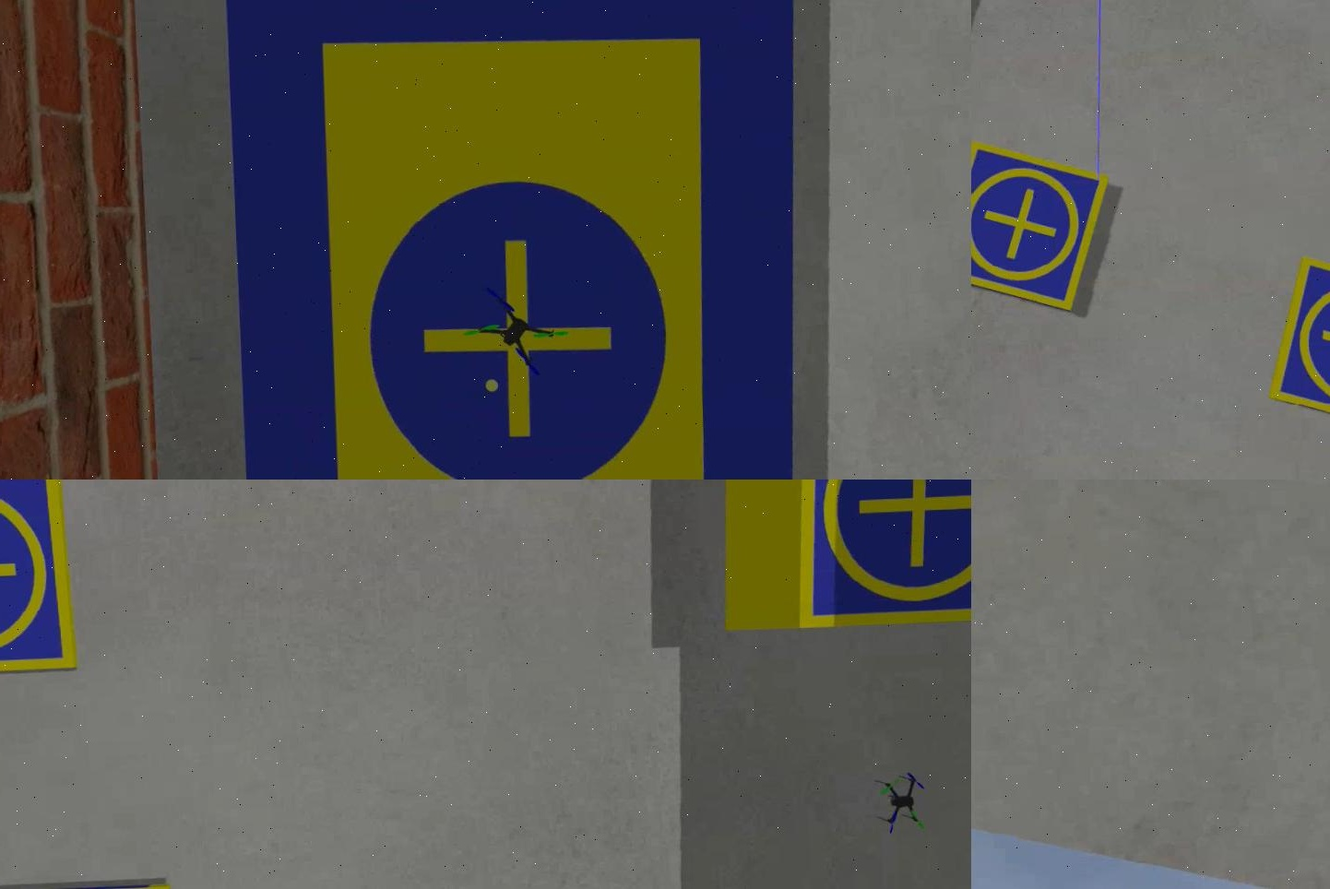large_base: (220, 1, 822, 480)
small_base: (784, 480, 970, 632), (970, 139, 1110, 314), (0, 480, 77, 683), (1265, 255, 1328, 443)
